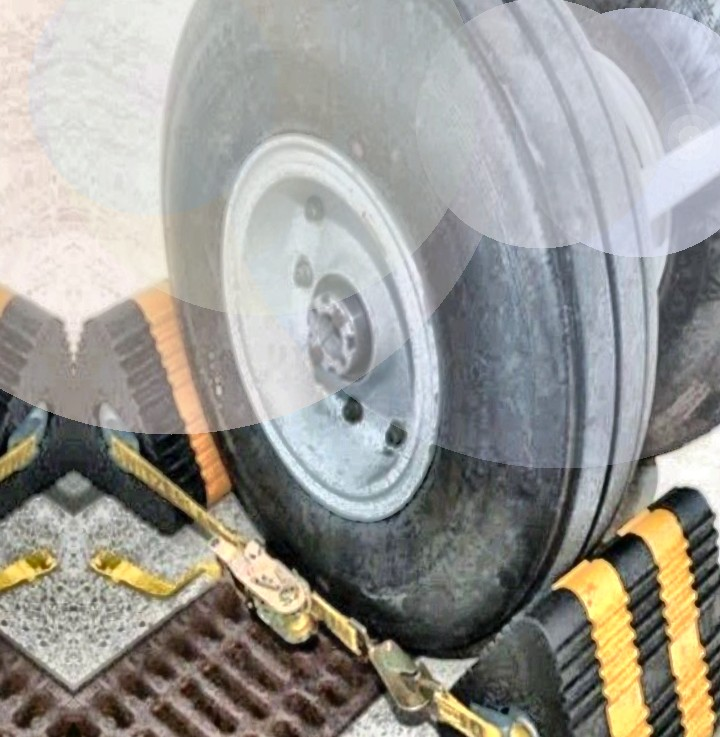chock: (419, 473, 720, 737), (58, 266, 284, 546), (0, 260, 88, 542)
wheel: (119, 0, 672, 662), (530, 0, 720, 456)
